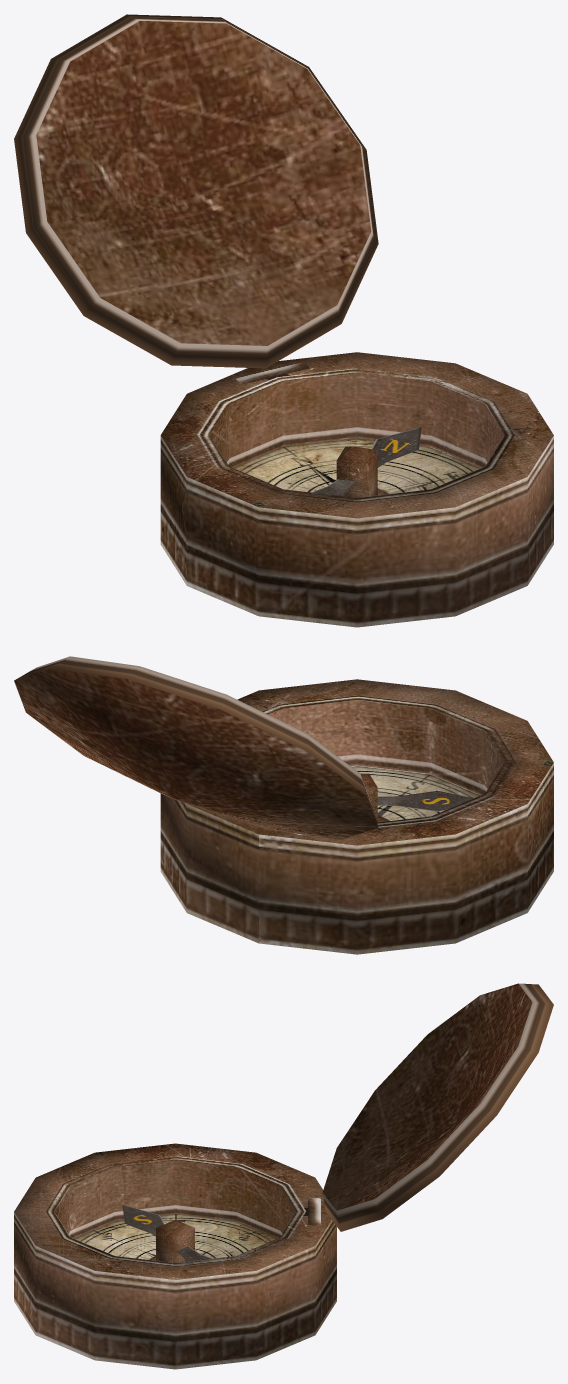
The model's file is compass.fbx.
The picture shows the model from 3 angles, top to bottom: view 1: azimuth 30°, elevation 25°; view 2: azimuth 150°, elevation 25°; view 3: azimuth 270°, elevation 25°; orthographic projection. The views are drawn at different scales.
Parts seen in each view (by area): view 1: compass; view 2: compass; view 3: compass.
Boxes of the visible parts, x1,y1,x2,y2 form: compass: [14, 14, 553, 627]; compass: [14, 656, 553, 954]; compass: [14, 983, 553, 1369].
Size of the model in its own units: 15.7 by 16.04 by 26.24.
